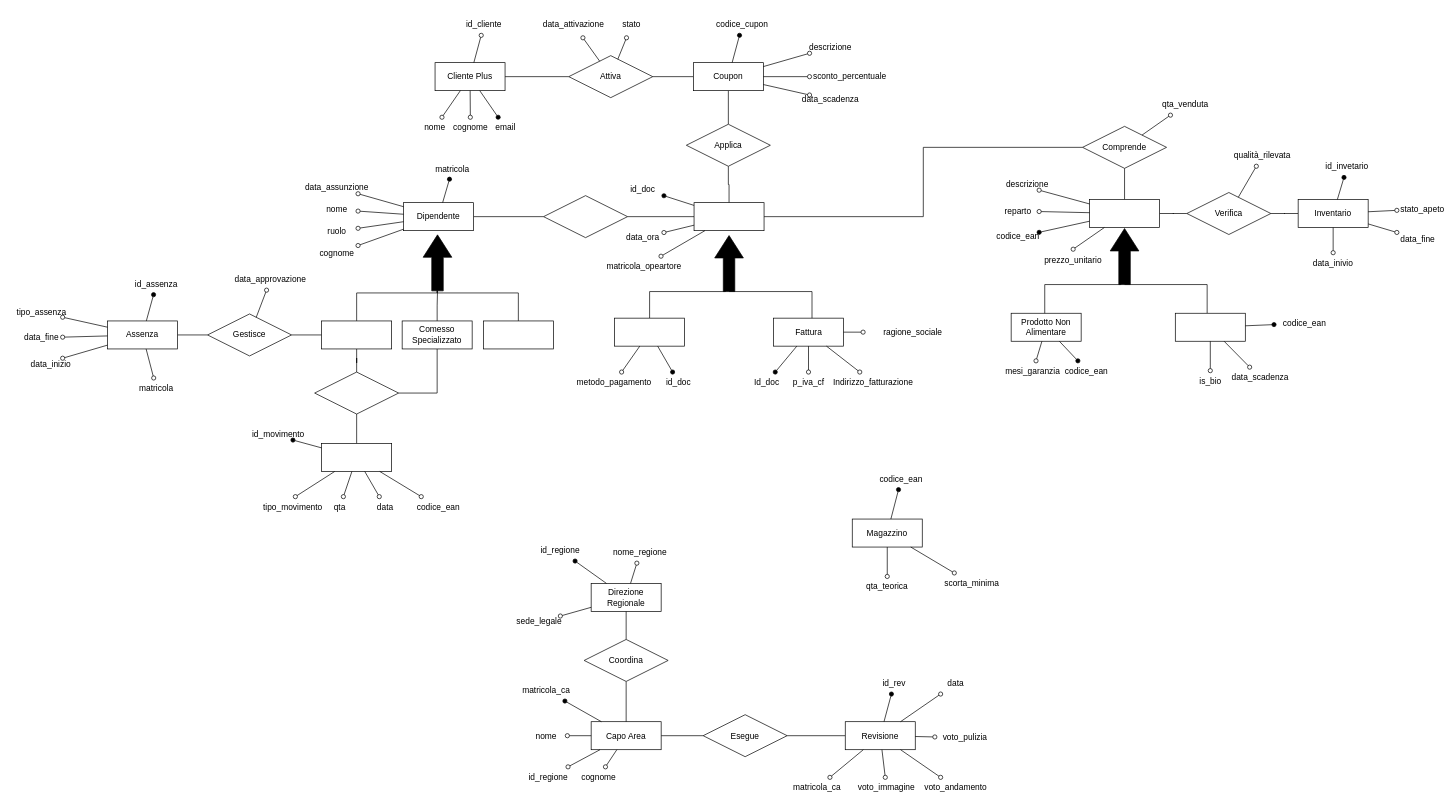
Image size: 1456x811. Some labels were removed from this diagram. The shapes that lost their labels are listed below. From the top down, each one's centre as x and y in pixels, then its label:
At [585,216]: "Batte".
At [728,216]: "Documento Fiscale".
At [1124,213]: "Prodotto".
At [356,334]: "Capo Filiare".
At [518,334]: "Adetto".
At [649,331]: "Scontrino".
At [1210,327]: "Prodotto Alimentare".
At [356,392]: "Autorizza".
At [356,457]: "Movimento Stock".
